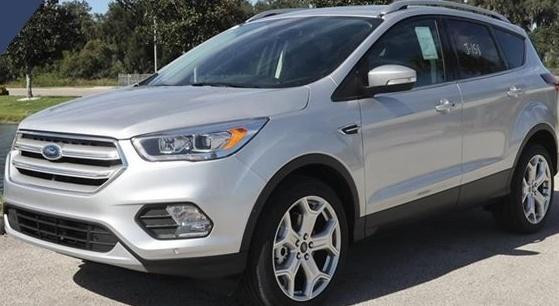SUV: (5, 1, 559, 306)
